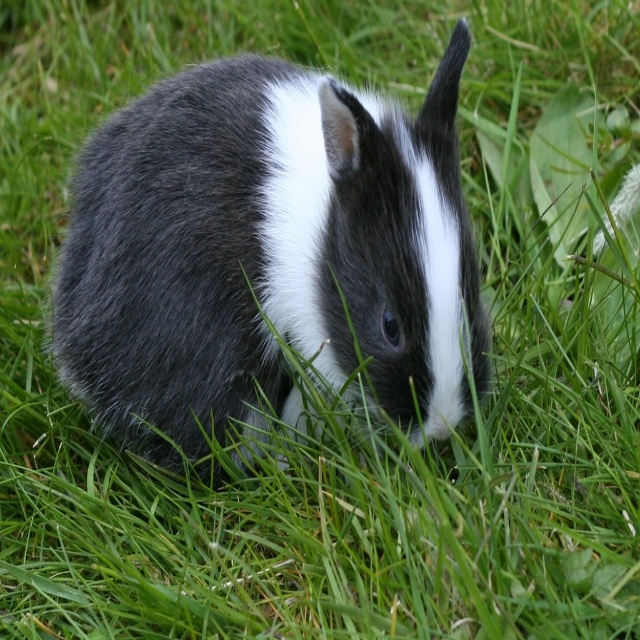Rabbit: (34, 11, 542, 492)
